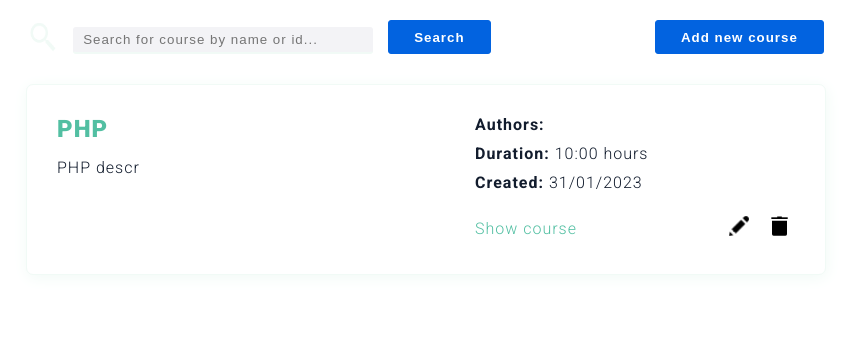
CourseCard comp › show course link should navigate to /:courseId
The width and height of the screenshot is (853, 362).
Click the link "Show course" at (526, 228), box x1=475 y1=218 x2=577 y2=238
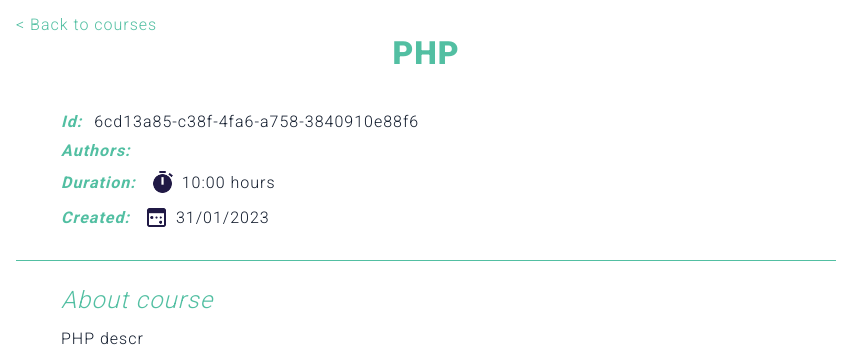
Result: the link "< Back to courses" is shown at x1=16 y1=15 x2=157 y2=34
